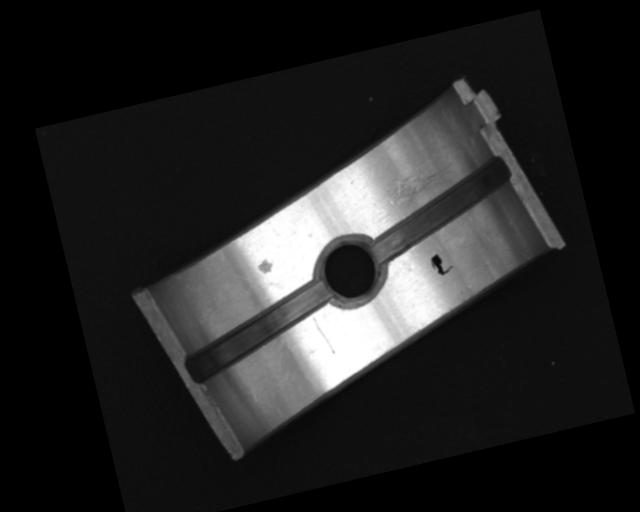blot: (428, 249, 456, 278)
bruise: (255, 255, 276, 276)
gap: (357, 154, 523, 264)
hole: (174, 276, 344, 384), (312, 233, 392, 312)
nick: (310, 311, 336, 357)
scratch: (368, 164, 461, 226)
